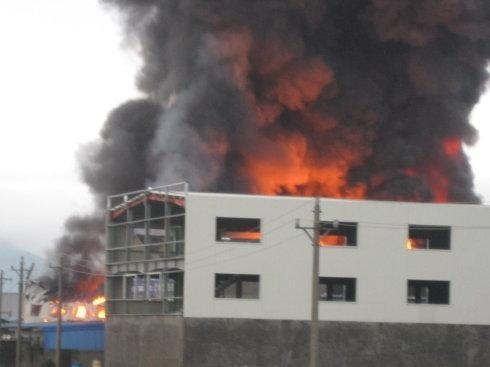fire: (47, 283, 109, 319), (318, 232, 345, 245), (405, 236, 418, 249)
